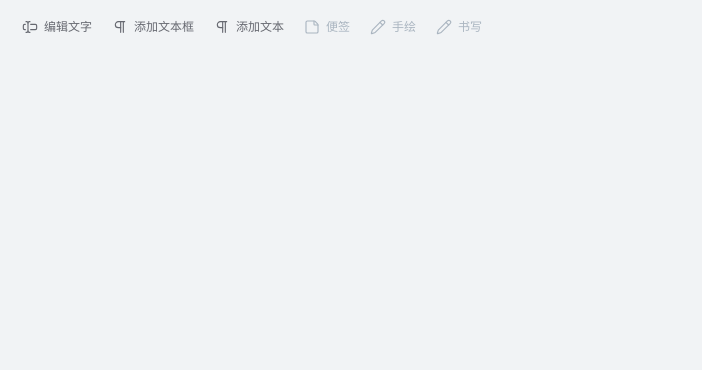
PageTextLayer text editing › commits the edit, refreshes the page and updates undo availability
This screenshot has width=702, height=370.
Expected: the element named "文本层" is shown, [12,12,492,42]
Click the button "编辑文字": (57, 27) [12,12,102,42]
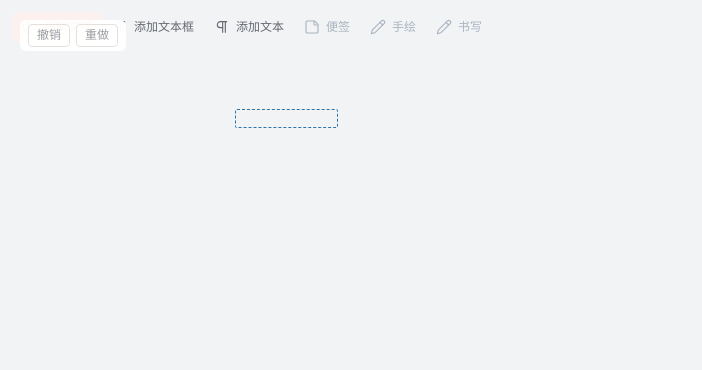
Press the mouse on the element named "文本层": (73, 35) [12,12,492,128]
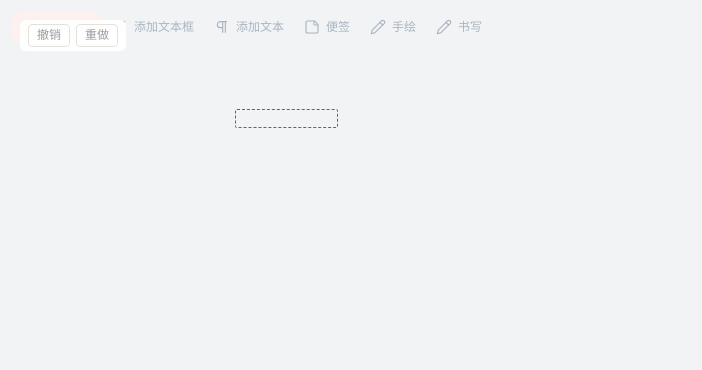
Double-click the element named "文本层": (73, 35) [12,12,492,128]
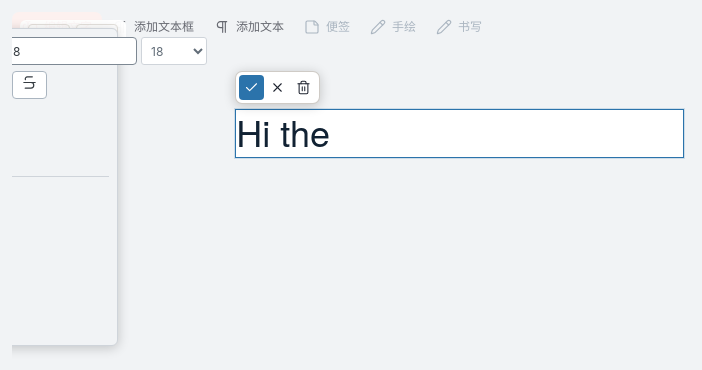
Replace the text in the text box named "文字内容" with "Edited text": (460, 134) [236,110,683,157]
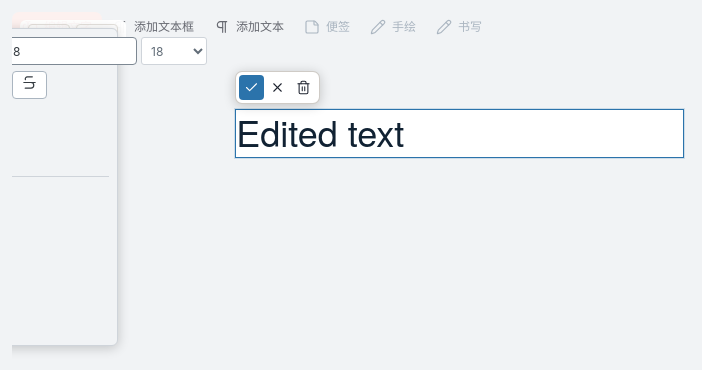
Click the button named "应用": (252, 88) [239,75,264,100]
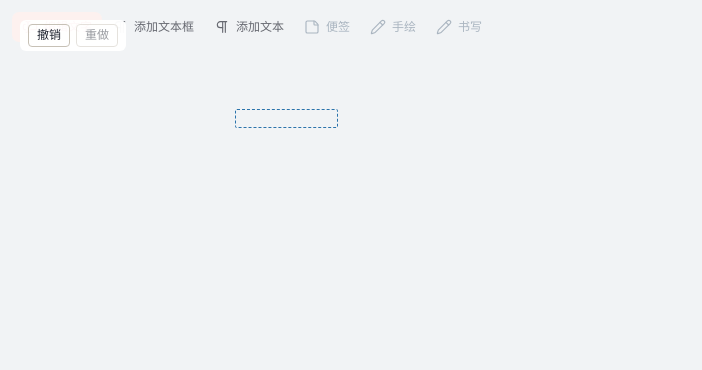
Now the button "重做" is disabled, box [76,24,118,47]
Now the element with test id "text-box-editor" is gone
Now the button "撤销" is enabled, box [28,24,70,47]
